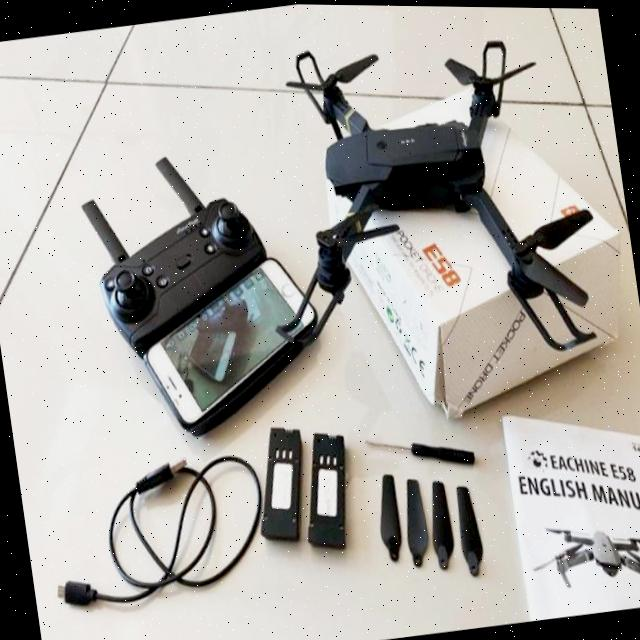drone: (249, 8, 624, 398), (530, 499, 640, 618)
